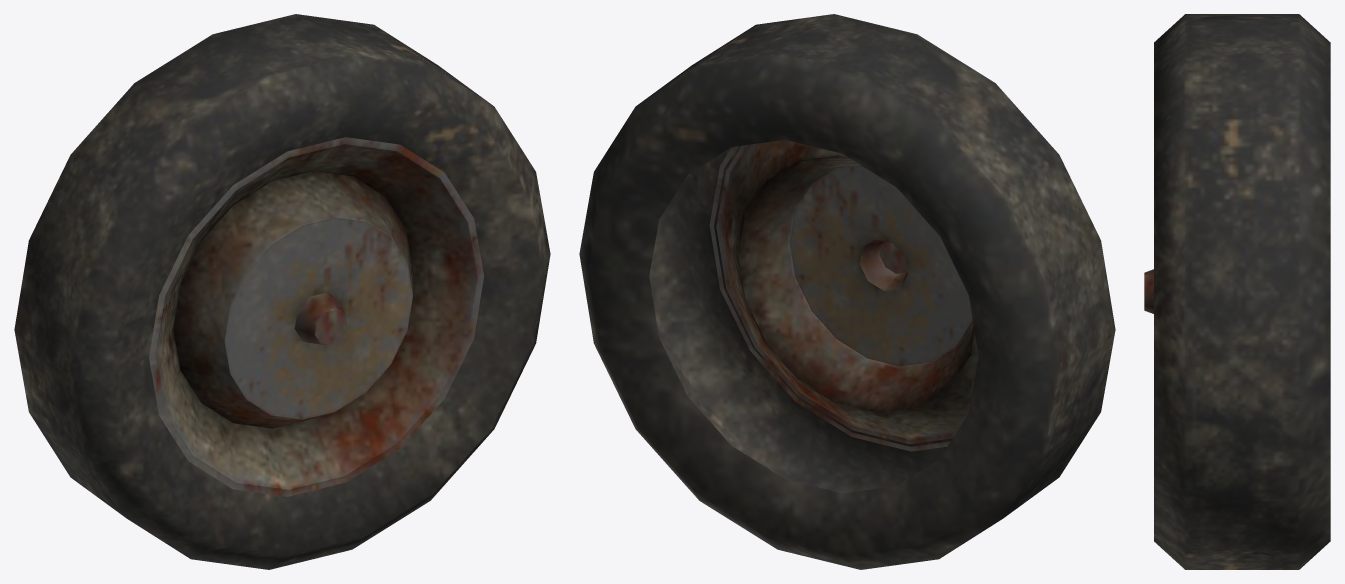
Rendered from Wheel.FBX.
3 renders of one model, left to right at view 1: azimuth 30°, elevation 25°; view 2: azimuth 150°, elevation 25°; view 3: azimuth 270°, elevation 25°, orthographic.
Parts seen in each view (by area): view 1: Wheel; view 2: Wheel; view 3: Wheel.
Part boxes in pixels (x1,y1,x2,y2): Wheel: (14,14,550,569); Wheel: (579,14,1115,569); Wheel: (1144,14,1330,569).
Size of the model in its own units: 31.62 by 31.14 by 10.54.
